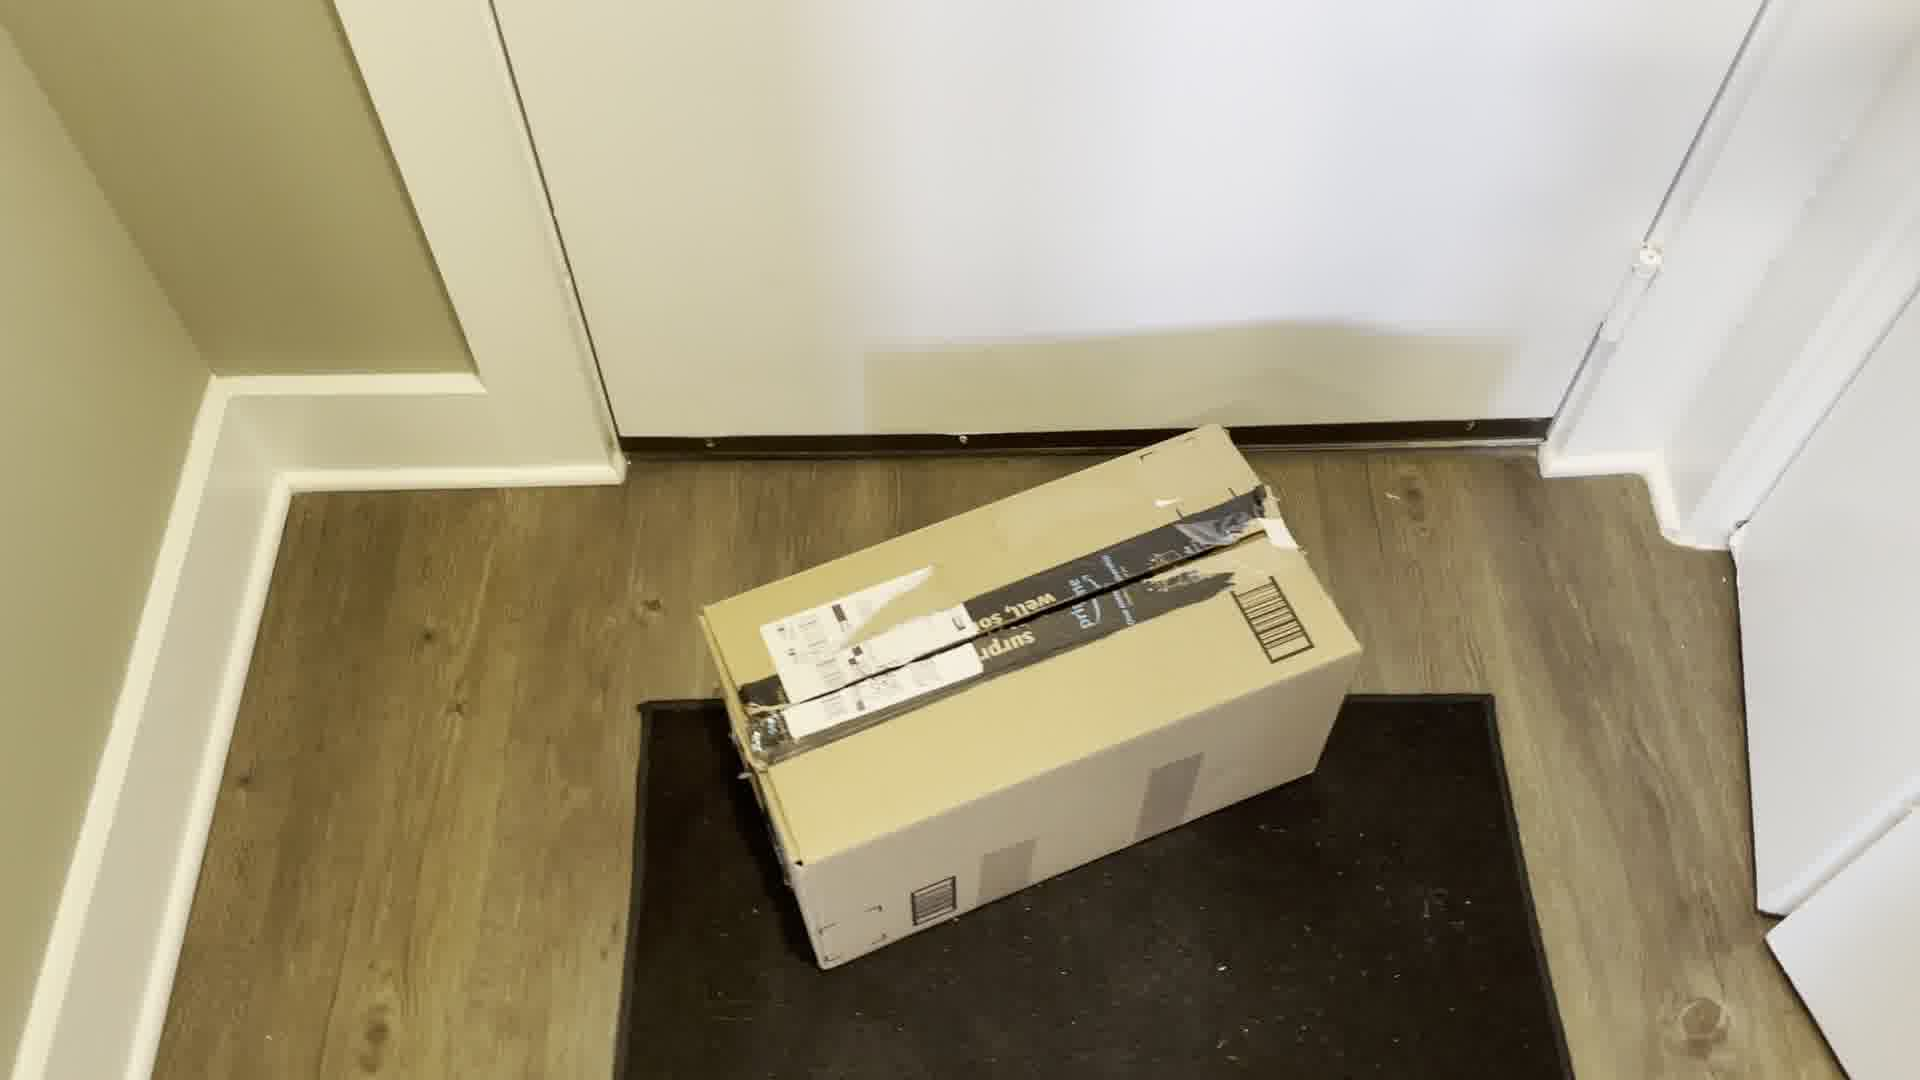box: (654, 425, 1371, 960)
